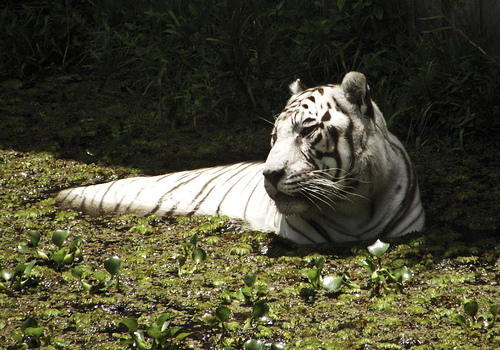Tigre: (83, 74, 430, 261)
